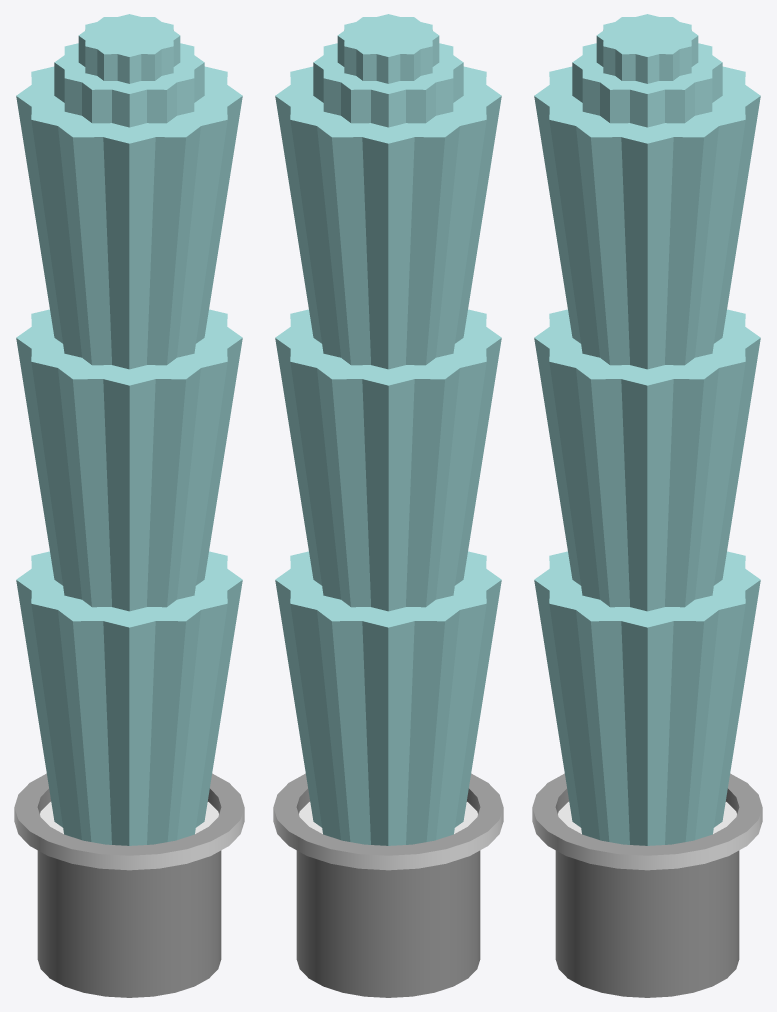
The model's file is tower1.fbx.
The picture shows the model from 3 angles, left to right: view 1: azimuth 30°, elevation 25°; view 2: azimuth 150°, elevation 25°; view 3: azimuth 270°, elevation 25°; orthographic projection.
Parts seen in each view (by area): view 1: Layer0_001; view 2: Layer0_001; view 3: Layer0_001.
Part boxes in pixels (<box>): Layer0_001: <box>14,14,244,997</box>; Layer0_001: <box>273,14,503,997</box>; Layer0_001: <box>532,14,762,997</box>.
Bounding box in the file's own units: 27.69 × 123 × 27.69.
